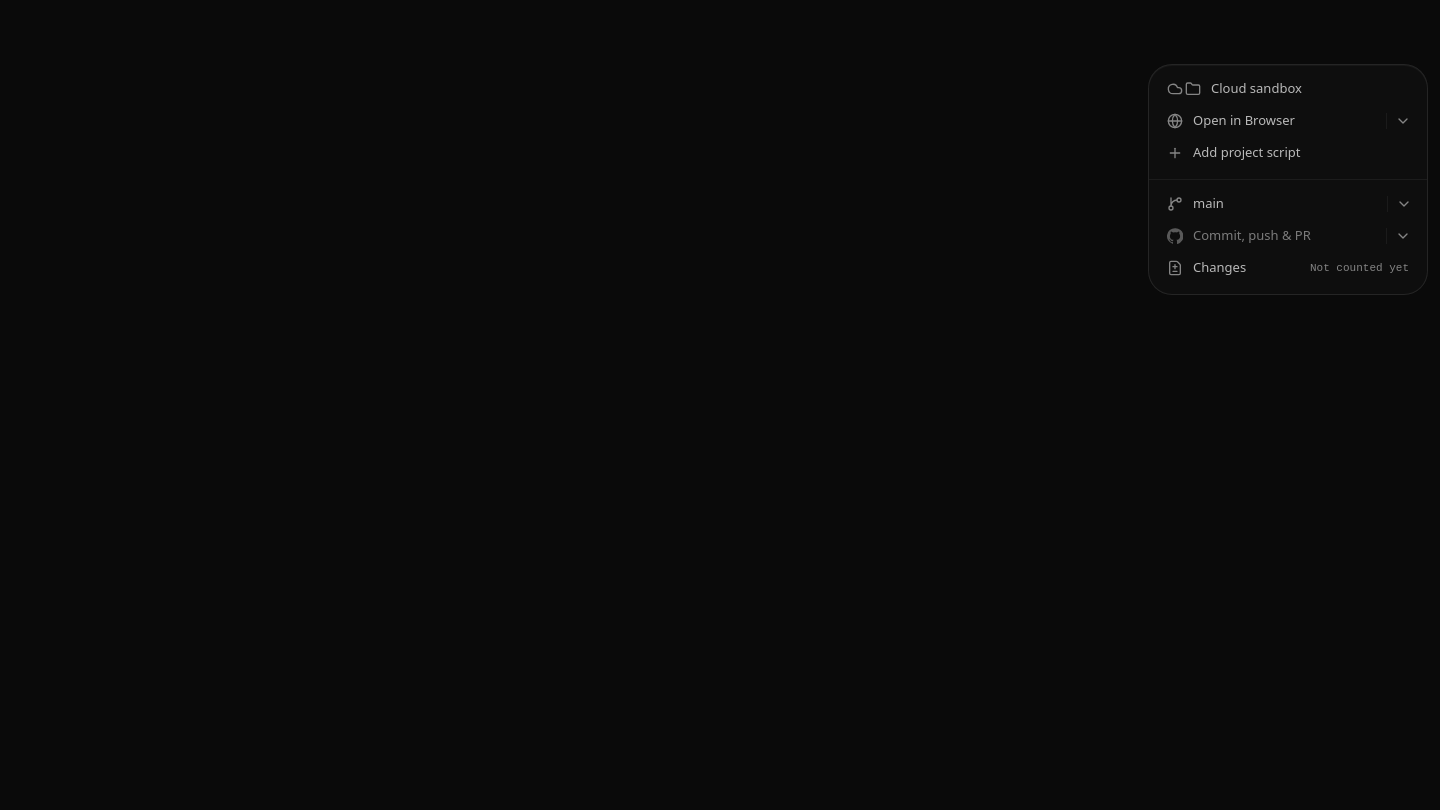
Test: the workspace section › offers to add a project script to a repository that serves nothing yet
The image size is (1440, 810).
Click the button "Add project script". click: click(1288, 153)
box: [1157,137,1419,169]
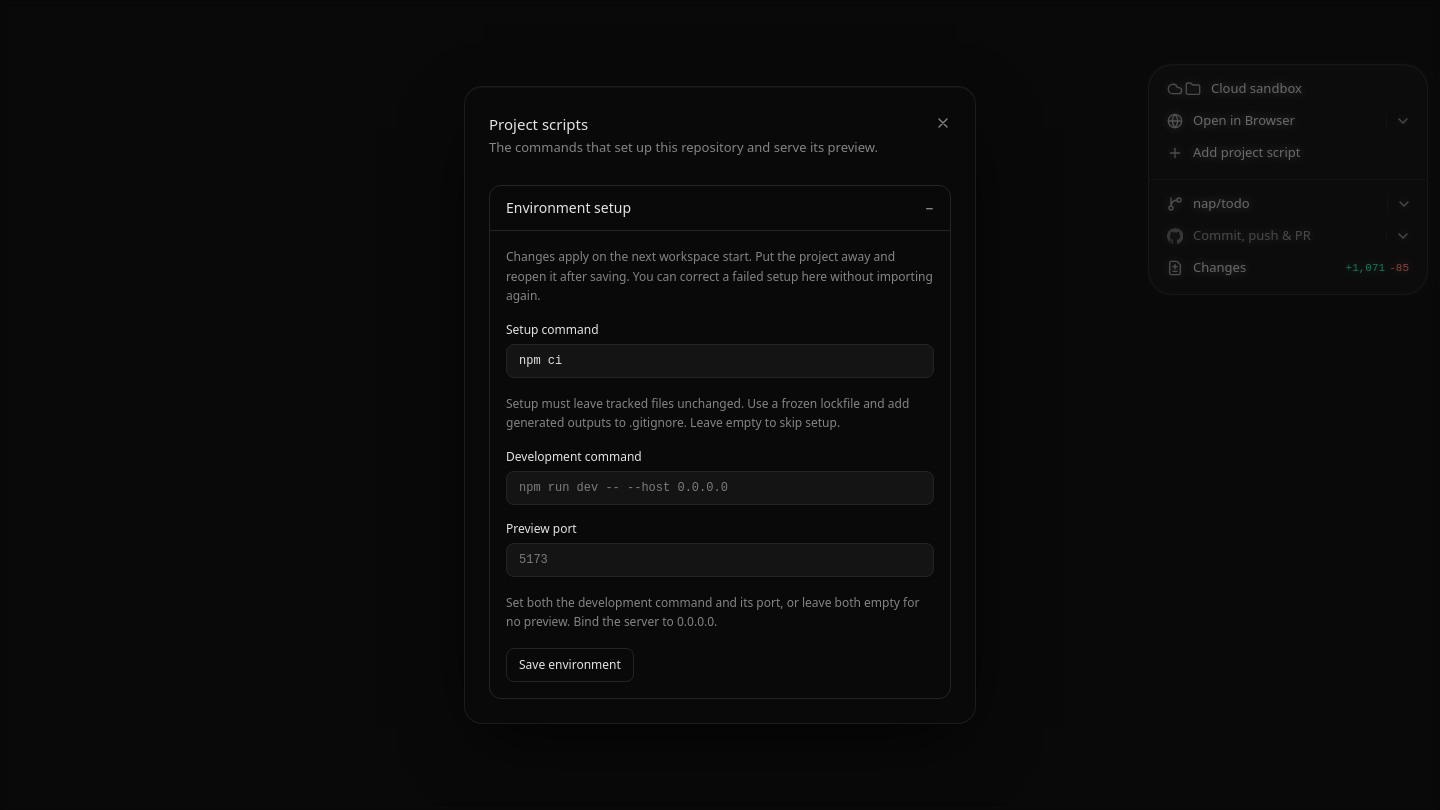
expect the field labelled "Development command" is shown: met, box [506,471,934,505]
